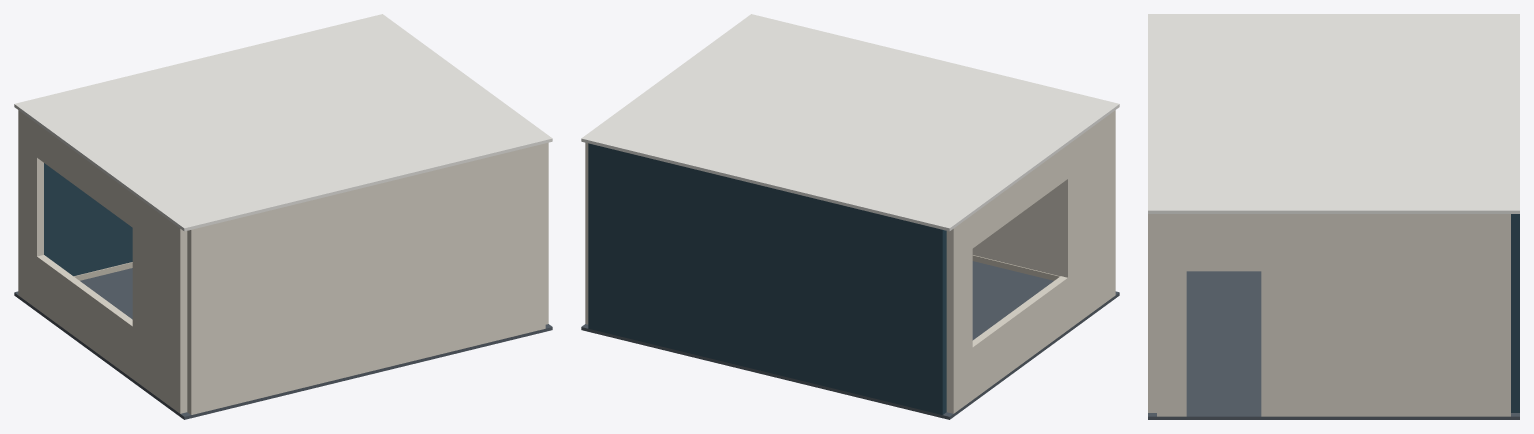
File: room_shell.fbx
3 renders of one model, left to right at view 1: azimuth 30°, elevation 25°; view 2: azimuth 150°, elevation 25°; view 3: azimuth 270°, elevation 25°, orthographic. The views are drawn at different scales.
Parts seen in each view (by area): view 1: Room; view 2: Room; view 3: Room.
Part boxes in pixels (x1,y1,x2,y2): Room: (14, 14, 552, 419); Room: (581, 14, 1119, 419); Room: (1148, 14, 1519, 419).
Bounding box in the file's own units: 6.24 × 3.1 × 4.99.
